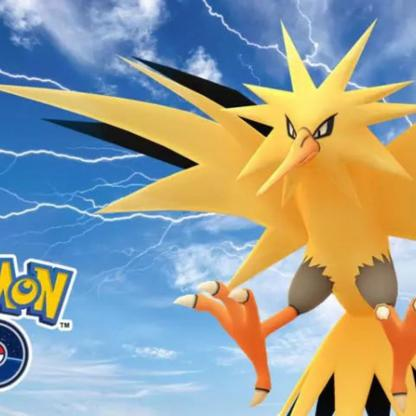Zapdos: (1, 15, 416, 416)
